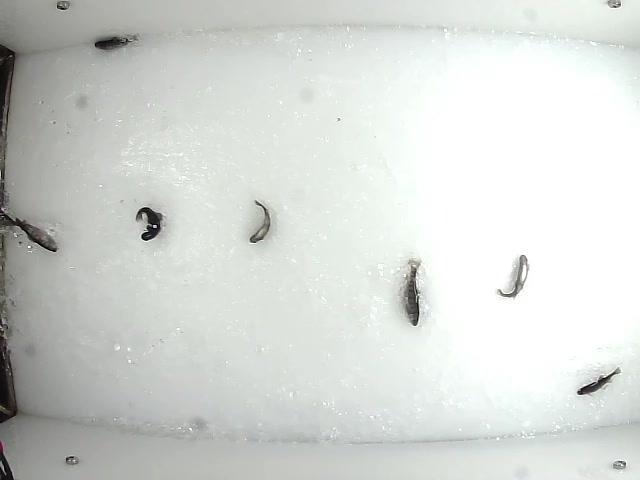fish: (399, 255, 427, 328), (9, 214, 59, 254), (493, 251, 533, 300), (576, 364, 623, 396), (133, 203, 166, 243), (247, 198, 272, 242), (93, 30, 140, 52)
